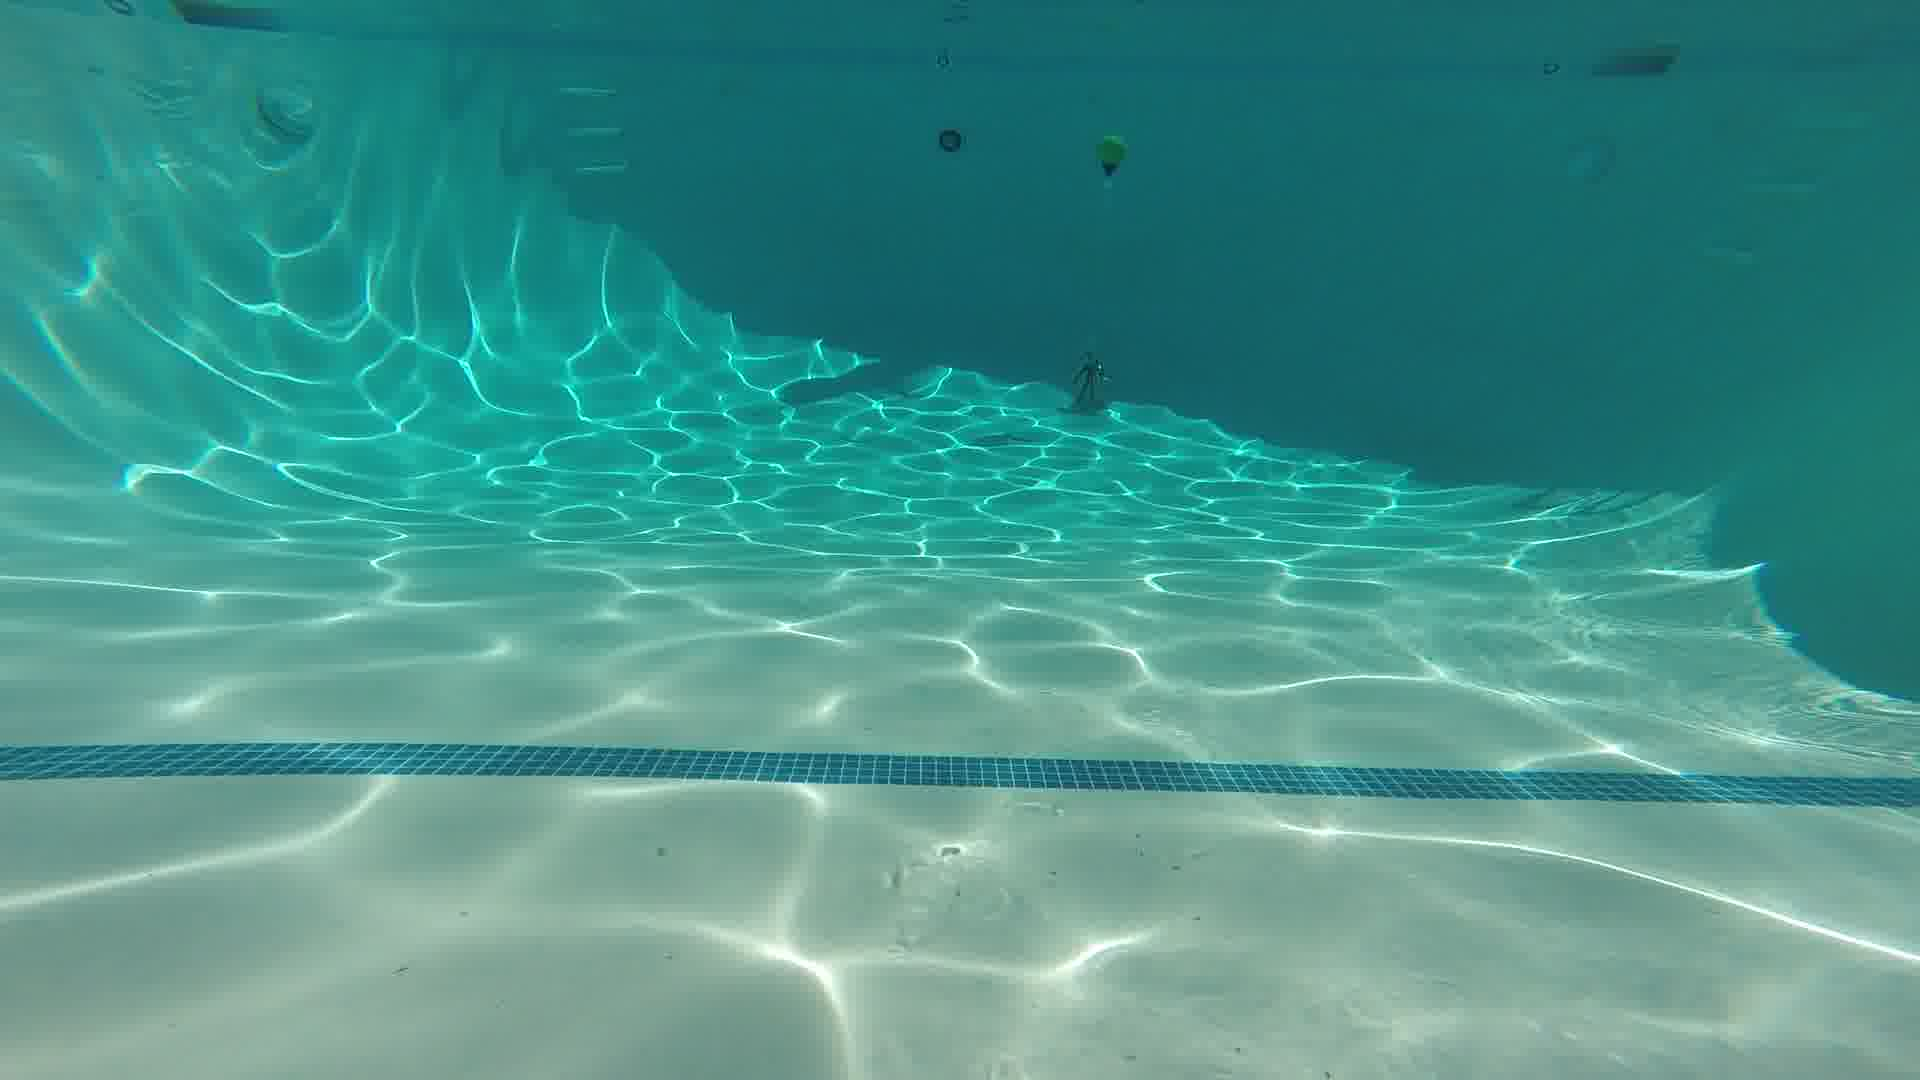yellow buoy: (1091, 123, 1137, 186)
